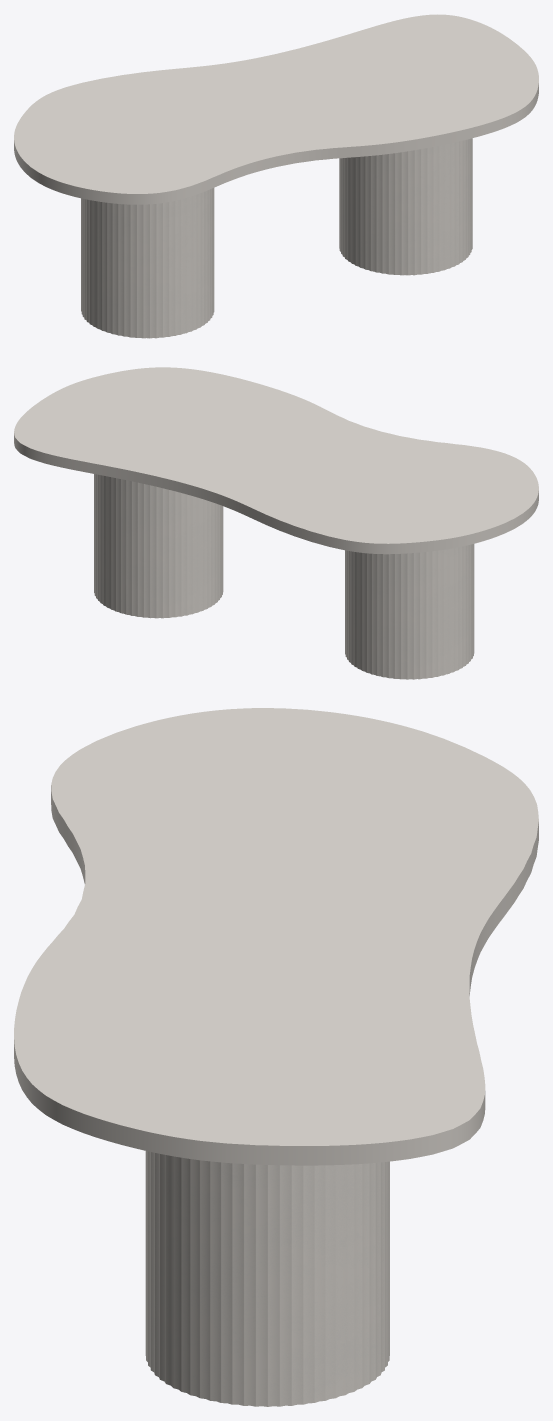
The model's file is pearlwhite_wave_standard_ripplesecond.glb.
The picture shows the model from 3 angles, top to bottom: view 1: azimuth 30°, elevation 25°; view 2: azimuth 150°, elevation 25°; view 3: azimuth 270°, elevation 25°; orthographic projection. The views are drawn at different scales.
Visible parts, largest first — view 1: standard_wave, ripplesecond; view 2: standard_wave, ripplesecond; view 3: standard_wave, ripplesecond.
Boxes of the visible parts, x1,y1,x2,y2 form: standard_wave: (14,14,538,204); ripplesecond: (81,138,472,338); standard_wave: (14,367,538,554); ripplesecond: (94,474,474,679); standard_wave: (14,708,538,1165); ripplesecond: (145,1151,389,1406).
Size of the model in its own units: 7.5 by 2.5 by 3.8.
Materials: 1 (1 with a texture image).
